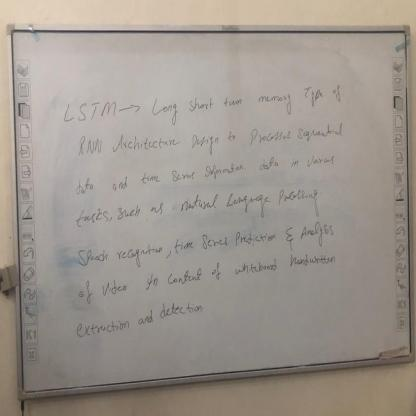Handwritten text: (58, 71, 351, 133), (72, 243, 344, 307), (73, 212, 340, 276), (67, 142, 344, 200), (68, 178, 327, 237), (70, 118, 347, 161), (73, 292, 212, 345)
